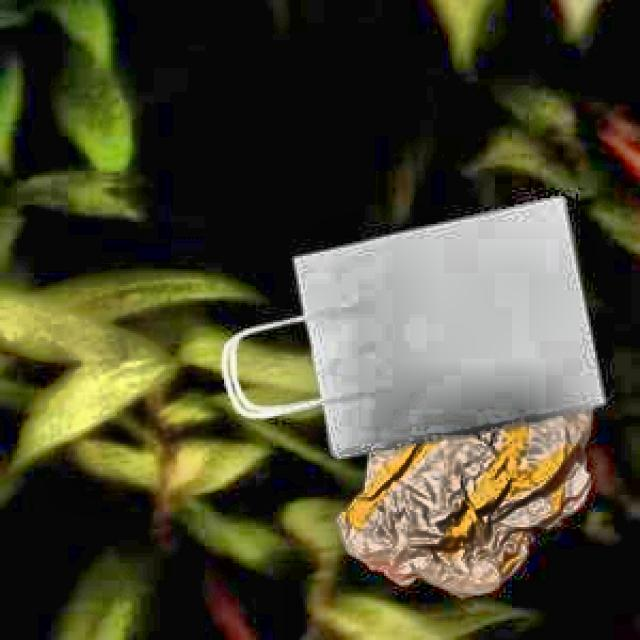Paper-bag: (205, 199, 610, 452), (309, 311, 601, 597)
